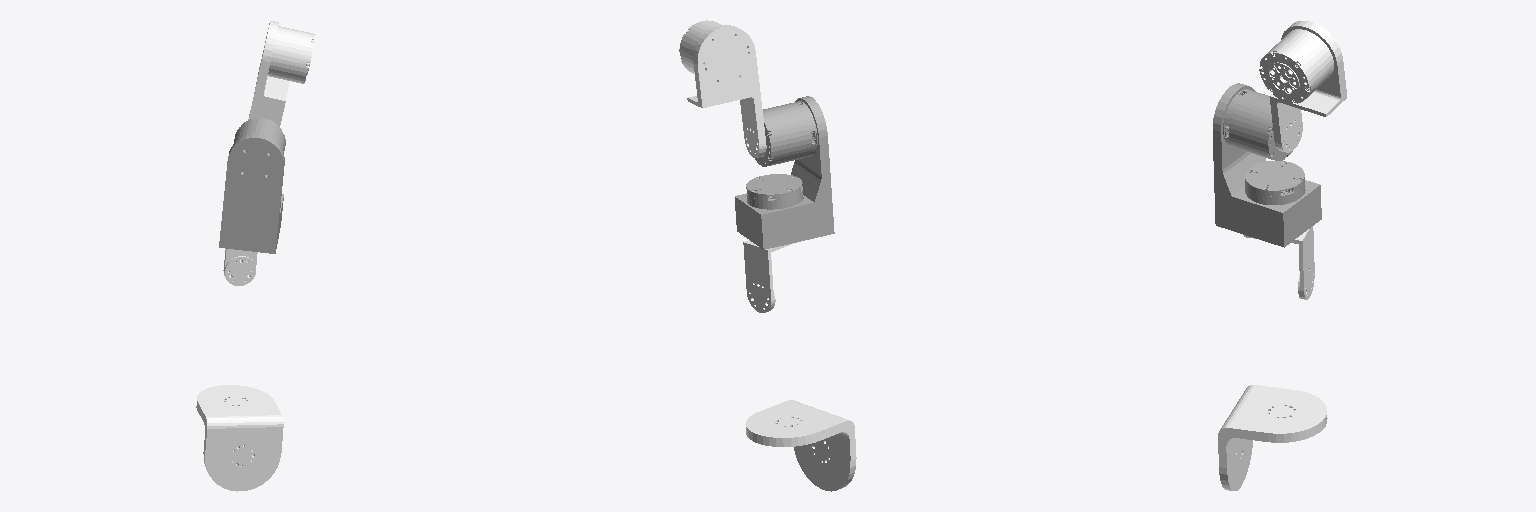
URDF robot description (wanren_arm):
<?xml version="1.0" encoding="utf-8" ?>
<!-- This URDF was automatically created by SolidWorks to URDF Exporter! Originally created by [author] ([email redacted]) 
     Commit Version: 1.6.0-4-g7f85cfe  Build Version: 1.6.7995.38578
     For more information, please see http://wiki.ros.org/sw_urdf_exporter -->
<robot name="wanren_arm">
    <link name="body">
        <inertial>
            <origin xyz="1.58624299813302E-05 2.01332320114156E-07 -0.0245724500252954" rpy="0 0 0" />
            <mass value="0.60016209200883" />
            <inertia ixx="0.00242953311427902" ixy="-5.25284926483854E-09" ixz="-1.0307989110718E-08" iyy="0.000676060412175399" iyz="-4.23866154122213E-09" izz="0.00270966081437587" />
        </inertial>
        <visual>
            <origin xyz="0 0 0" rpy="0 0 0" />
            <geometry>
                <mesh filename="package://wanren_arm/meshes/body.STL" />
            </geometry>
            <material name="">
                <color rgba="1 1 1 1" />
            </material>
        </visual>
        <collision>
            <origin xyz="0 0 0" rpy="0 0 0" />
            <geometry>
                <mesh filename="package://wanren_arm/meshes/body.STL" />
            </geometry>
        </collision>
    </link>
    <link name="leg_r1_link">
        <inertial>
            <origin xyz="-0.00382422792815949 -0.0123142355221975 0.0766747228132015" rpy="0 0 0" />
            <mass value="0.292899916417866" />
            <inertia ixx="0.000252199489311626" ixy="1.84502350325129E-05" ixz="3.06532558789357E-06" iyy="0.000305653266020346" iyz="9.64612915614931E-06" izz="0.000181236852257132" />
        </inertial>
        <visual>
            <origin xyz="0 0 0" rpy="0 0 0" />
            <geometry>
                <mesh filename="package://wanren_arm/meshes/leg_r1.STL" />
            </geometry>
            <material name="">
                <color rgba="1 1 1 1" />
            </material>
        </visual>
        <collision>
            <origin xyz="0 0 0" rpy="0 0 0" />
            <geometry>
                <mesh filename="package://wanren_arm/meshes/leg_r1.STL" />
            </geometry>
        </collision>
    </link>
    <joint name="leg_r1_joint" type="continuous">
        <origin xyz="0 0 0.011999999999999" rpy="0 0 0" />
        <parent link="body" />
        <child link="leg_r1_link" />
        <axis xyz="0 0 -1" />
    </joint>
    <link name="leg_r2_link">
        <inertial>
            <origin xyz="0.0284932164900757 0.0852314382000906 0.0233442478183801" rpy="0 0 0" />
            <mass value="0.118782011304387" />
            <inertia ixx="0.000148335029284927" ixy="-8.65175116738488E-06" ixz="-1.27967801985177E-05" iyy="0.000134918605784322" iyz="-4.16906433393106E-05" izz="0.000154509301437256" />
        </inertial>
        <visual>
            <origin xyz="0 0 0" rpy="0 0 0" />
            <geometry>
                <mesh filename="package://wanren_arm/meshes/leg_r2.STL" />
            </geometry>
            <material name="">
                <color rgba="1 1 1 1" />
            </material>
        </visual>
        <collision>
            <origin xyz="0 0 0" rpy="0 0 0" />
            <geometry>
                <mesh filename="package://wanren_arm/meshes/leg_r2.STL" />
            </geometry>
        </collision>
    </link>
    <joint name="leg_r2_joint" type="continuous">
        <origin xyz="-0.0136812977041495 -0.0436944371355362 0.0808116620061236" rpy="0 0 0" />
        <parent link="leg_r1_link" />
        <child link="leg_r2_link" />
        <axis xyz="0.29752487908452 0.954714065218347 0" />
    </joint>
    <link name="leg_r3_link">
        <inertial>
            <origin xyz="0.00440804925886197 -0.000927955750798931 0.0105438054247052" rpy="0 0 0" />
            <mass value="0.395227613542105" />
            <inertia ixx="0.000308890320718613" ixy="-5.97376048863321E-06" ixz="-4.28271122717806E-07" iyy="0.000290511069752979" iyz="-7.01321630599807E-06" izz="0.000217174460223541" />
        </inertial>
        <visual>
            <origin xyz="0 0 0" rpy="0 0 0" />
            <geometry>
                <mesh filename="package://wanren_arm/meshes/leg_r3.STL" />
            </geometry>
            <material name="">
                <color rgba="0.752941176470588 0.752941176470588 0.752941176470588 1" />
            </material>
        </visual>
        <collision>
            <origin xyz="0 0 0" rpy="0 0 0" />
            <geometry>
                <mesh filename="package://wanren_arm/meshes/leg_r3.STL" />
            </geometry>
        </collision>
    </link>
    <joint name="leg_r3_joint" type="continuous">
        <origin xyz="0.0412068272569313 0.104588881771451 0.106228185949221" rpy="0 0 0" />
        <parent link="leg_r2_link" />
        <child link="leg_r3_link" />
        <axis xyz="-0.0722349306802614 0.022511126419206 -0.997133573788866" />
    </joint>
    <link name="leg_r4_link">
        <inertial>
            <origin xyz="0.0155060558890136 0.0411774297341984 0.0346709586399187" rpy="0 0 0" />
            <mass value="0.0222841339329651" />
            <inertia ixx="1.84809601603307E-05" ixy="-7.49503824125524E-07" ixz="7.29303214418526E-07" iyy="1.42244264185631E-05" iyz="5.6744596945616E-06" izz="8.89285098125665E-06" />
        </inertial>
        <visual>
            <origin xyz="0 0 0" rpy="0 0 0" />
            <geometry>
                <mesh filename="package://wanren_arm/meshes/leg_r4.STL" />
            </geometry>
            <material name="">
                <color rgba="1 1 1 1" />
            </material>
        </visual>
        <collision>
            <origin xyz="0 0 0" rpy="0 0 0" />
            <geometry>
                <mesh filename="package://wanren_arm/meshes/leg_r4.STL" />
            </geometry>
        </collision>
    </link>
    <joint name="leg_r4_joint" type="continuous">
        <origin xyz="-0.00228042956033238 -0.0297792321778995 0.0833604475054363" rpy="0 0 0" />
        <parent link="leg_r3_link" />
        <child link="leg_r4_link" />
        <axis xyz="0.282983296167026 0.959124144572578 0.0011529910516605" />
    </joint>
    <link name="leg_r5_link">
        <inertial>
            <origin xyz="-0.0048559147531092 -0.0119363039004067 -0.00678188706287566" rpy="0 0 0" />
            <mass value="0.38824624930896" />
            <inertia ixx="0.000237526648339387" ixy="-5.31429070295641E-05" ixz="2.19325891659962E-05" iyy="0.000363875907133575" iyz="1.18765086359219E-05" izz="0.000378463701930693" />
        </inertial>
        <visual>
            <origin xyz="0 0 0" rpy="0 0 0" />
            <geometry>
                <mesh filename="package://wanren_arm/meshes/leg_r5.STL" />
            </geometry>
            <material name="">
                <color rgba="0.752941176470588 0.752941176470588 0.752941176470588 1" />
            </material>
        </visual>
        <collision>
            <origin xyz="0 0 0" rpy="0 0 0" />
            <geometry>
                <mesh filename="package://wanren_arm/meshes/leg_r5.STL" />
            </geometry>
        </collision>
    </link>
    <joint name="leg_r5_joint" type="continuous">
        <origin xyz="0.0181511434262854 0.025007599076044 0.111134888878763" rpy="0 1.26722046551249 0" />
        <parent link="leg_r4_link" />
        <child link="leg_r5_link" />
        <axis xyz="0.923719785557326 0.0273056458564005 -0.382094437900229" />
    </joint>
    <link name="leg_r6_link">
        <inertial>
            <origin xyz="0.0651691107467127 0.0806102275858783 -0.0545046281847596" rpy="0 0 0" />
            <mass value="0.174871084341935" />
            <inertia ixx="0.000144391761957596" ixy="-1.80182197600083E-05" ixz="1.3262109156489E-05" iyy="7.06944905975503E-05" iyz="1.59148040690902E-05" izz="0.000136401918690474" />
        </inertial>
        <visual>
            <origin xyz="0 0 0" rpy="0 0 0" />
            <geometry>
                <mesh filename="package://wanren_arm/meshes/leg_r6.STL" />
            </geometry>
            <material name="">
                <color rgba="1 1 1 1" />
            </material>
        </visual>
        <collision>
            <origin xyz="0 0 0" rpy="0 0 0" />
            <geometry>
                <mesh filename="package://wanren_arm/meshes/leg_r6.STL" />
            </geometry>
        </collision>
    </link>
    <joint name="leg_r6_joint" type="continuous">
        <origin xyz="-0.0550712045826083 -0.0332459772838745 -0.000878918231283499" rpy="1.5372364468678 -1.26722046551249 0" />
        <parent link="leg_r5_link" />
        <child link="leg_r6_link" />
        <axis xyz="0.565655964466871 0 -0.824641334073823" />
    </joint>
    <link name="leg_r7_link">
        <inertial>
            <origin xyz="0.122014637753753 -0.108460665221082 -0.0505526819127103" rpy="0 0 0" />
            <mass value="0.784412251530751" />
            <inertia ixx="0.00035684591190941" ixy="5.28938521033195E-05" ixz="1.61063033449861E-05" iyy="0.000393694186319801" iyz="-3.02303341596539E-06" izz="0.000403461621026228" />
        </inertial>
        <visual>
            <origin xyz="0 0 0" rpy="0 0 0" />
            <geometry>
                <mesh filename="package://wanren_arm/meshes/leg_r7.STL" />
            </geometry>
            <material name="">
                <color rgba="0.752941176470588 0.752941176470588 0.752941176470588 1" />
            </material>
        </visual>
        <collision>
            <origin xyz="0 0 0" rpy="0 0 0" />
            <geometry>
                <box size="0.1 0.05 0.04" />
            </geometry>
        </collision>
    </link>
    <joint name="leg_r7_joint" type="continuous">
        <origin xyz="0.0506954674848457 0.0975609362242854 -0.0679978120533321" rpy="-1.5372364468678 0 0" />
        <parent link="leg_r6_link" />
        <child link="leg_r7_link" />
        <axis xyz="0.804819794366103 -0.559061164385712 -0.199288015375224" />
    </joint>
    <transmission name="trans_leg_r1_joint">
        <type>transmission_interface/SimpleTransmission</type>
        <joint name="leg_r1_joint">
            <hardwareInterface>hardware_interface/EffortJointInterface</hardwareInterface>
        </joint>
        <actuator name="leg_r1_joint_motor">
            <hardwareInterface>hardware_interface/EffortJointInterface</hardwareInterface>
            <mechanicalReduction>1</mechanicalReduction>
        </actuator>
    </transmission>
    <transmission name="trans_leg_r2_joint">
        <type>transmission_interface/SimpleTransmission</type>
        <joint name="leg_r2_joint">
            <hardwareInterface>hardware_interface/EffortJointInterface</hardwareInterface>
        </joint>
        <actuator name="leg_r2_joint_motor">
            <hardwareInterface>hardware_interface/EffortJointInterface</hardwareInterface>
            <mechanicalReduction>1</mechanicalReduction>
        </actuator>
    </transmission>
    <transmission name="trans_leg_r3_joint">
        <type>transmission_interface/SimpleTransmission</type>
        <joint name="leg_r3_joint">
            <hardwareInterface>hardware_interface/EffortJointInterface</hardwareInterface>
        </joint>
        <actuator name="leg_r3_joint_motor">
            <hardwareInterface>hardware_interface/EffortJointInterface</hardwareInterface>
            <mechanicalReduction>1</mechanicalReduction>
        </actuator>
    </transmission>
    <transmission name="trans_leg_r4_joint">
        <type>transmission_interface/SimpleTransmission</type>
        <joint name="leg_r4_joint">
            <hardwareInterface>hardware_interface/EffortJointInterface</hardwareInterface>
        </joint>
        <actuator name="leg_r4_joint_motor">
            <hardwareInterface>hardware_interface/EffortJointInterface</hardwareInterface>
            <mechanicalReduction>1</mechanicalReduction>
        </actuator>
    </transmission>
    <transmission name="trans_leg_r5_joint">
        <type>transmission_interface/SimpleTransmission</type>
        <joint name="leg_r5_joint">
            <hardwareInterface>hardware_interface/EffortJointInterface</hardwareInterface>
        </joint>
        <actuator name="leg_r5_joint_motor">
            <hardwareInterface>hardware_interface/EffortJointInterface</hardwareInterface>
            <mechanicalReduction>1</mechanicalReduction>
        </actuator>
    </transmission>
    <transmission name="trans_leg_r6_joint">
        <type>transmission_interface/SimpleTransmission</type>
        <joint name="leg_r6_joint">
            <hardwareInterface>hardware_interface/EffortJointInterface</hardwareInterface>
        </joint>
        <actuator name="leg_r6_joint_motor">
            <hardwareInterface>hardware_interface/EffortJointInterface</hardwareInterface>
            <mechanicalReduction>1</mechanicalReduction>
        </actuator>
    </transmission>
    <transmission name="trans_leg_r7_joint">
        <type>transmission_interface/SimpleTransmission</type>
        <joint name="leg_r7_joint">
            <hardwareInterface>hardware_interface/EffortJointInterface</hardwareInterface>
        </joint>
        <actuator name="leg_r7_joint_motor">
            <hardwareInterface>hardware_interface/EffortJointInterface</hardwareInterface>
            <mechanicalReduction>1</mechanicalReduction>
        </actuator>
    </transmission>
    <gazebo>
        <plugin name="gazebo_ros_control" filename="libgazebo_ros_control.so">
            <robotNamespace>/</robotNamespace>
        </plugin>
    </gazebo>
</robot>

--- What the picture shows (computed from the rendered views, not written in the file) ---
3 views of the same robot in one strip: view 1: azimuth 30°, elevation 25°; view 2: azimuth 150°, elevation 25°; view 3: azimuth 270°, elevation 25° (orthographic).
Model wanren_arm with 8 links and 7 joints (7 continuous), rooted at body, posed every joint at zero.
Visible links, largest first — view 1: leg_r2_link, leg_r5_link, leg_r6_link, leg_r4_link; view 2: leg_r5_link, leg_r6_link, leg_r2_link, leg_r4_link; view 3: leg_r5_link, leg_r6_link, leg_r2_link, leg_r4_link.
Boxes of the visible links, x1,y1,x2,y2 form: leg_r2_link: (196, 385, 283, 491); leg_r5_link: (219, 118, 285, 253); leg_r6_link: (248, 21, 315, 126); leg_r4_link: (223, 249, 257, 285); leg_r5_link: (735, 96, 834, 249); leg_r6_link: (679, 20, 766, 157); leg_r2_link: (746, 400, 856, 491); leg_r4_link: (743, 240, 793, 312); leg_r5_link: (1213, 83, 1321, 247); leg_r6_link: (1259, 21, 1346, 152); leg_r2_link: (1218, 385, 1327, 490); leg_r4_link: (1244, 226, 1314, 299).
Size in the robot's own frame: 0.1722 by 0.1282 by 0.5231 metres.
4 mesh visuals loaded from 8 distinct referenced files (4 binary STL); not drawn: 4 (reference not matched to a file when rendering).
